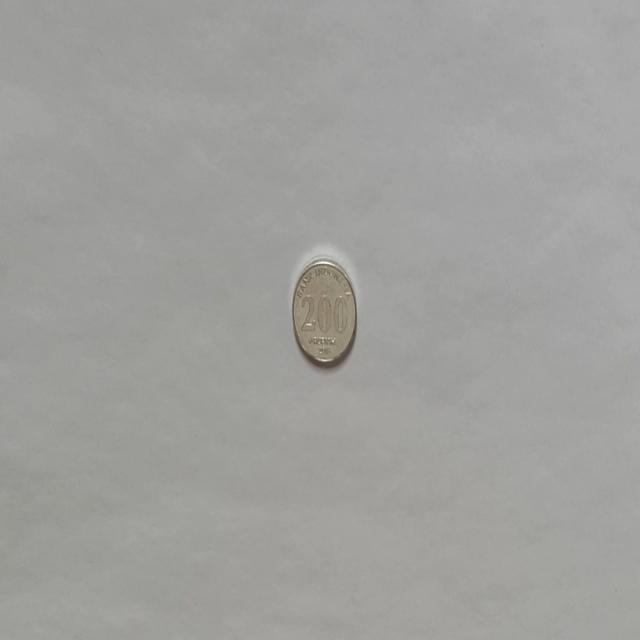dua ratus rupiah: (291, 256, 357, 366)
